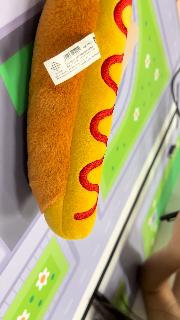hotdog: (26, 1, 134, 241)
